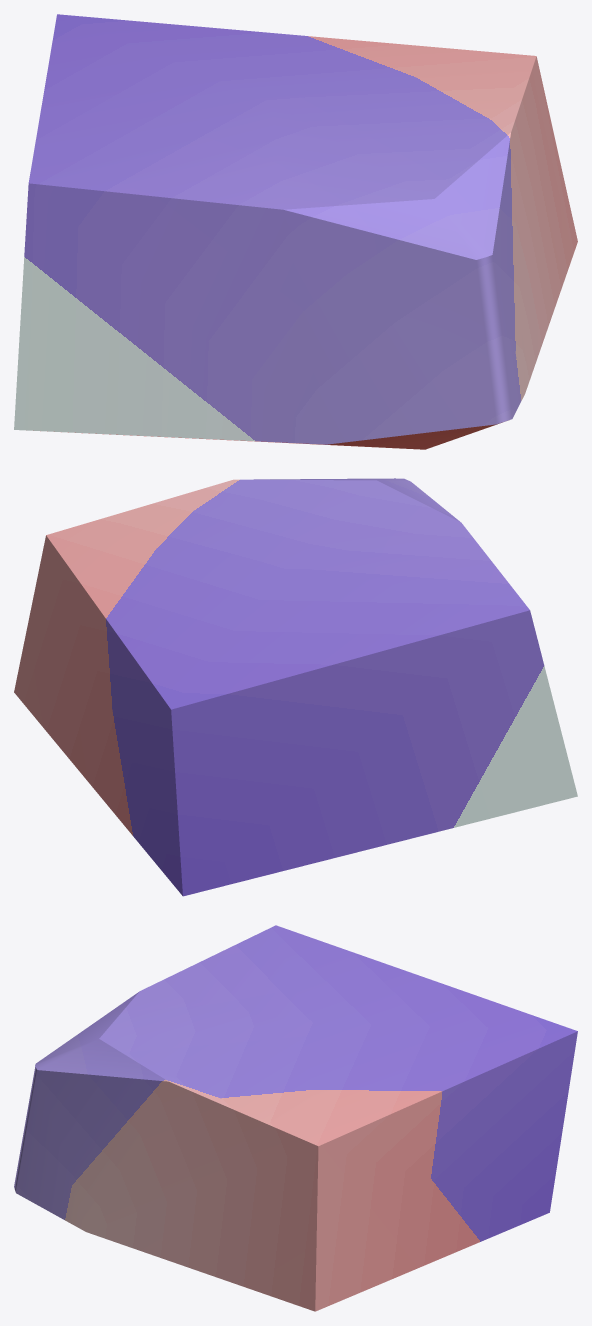
Rendered from Prop_SnowmanEye.glb.
3 renders of one model, top to bottom at view 1: azimuth 30°, elevation 25°; view 2: azimuth 150°, elevation 25°; view 3: azimuth 270°, elevation 25°, orthographic. The views are drawn at different scales.
Visible parts, largest first — view 1: Prop_SnowmanEye; view 2: Prop_SnowmanEye; view 3: Prop_SnowmanEye.
Part boxes in pixels (left/top/right/bottom): Prop_SnowmanEye: left=14, top=14, right=577, bottom=449; Prop_SnowmanEye: left=14, top=478, right=577, bottom=896; Prop_SnowmanEye: left=14, top=925, right=577, bottom=1311.
Bounding box in the file's own units: 0.0568 × 0.0254 × 0.0585.
1 material, 1 textured.
